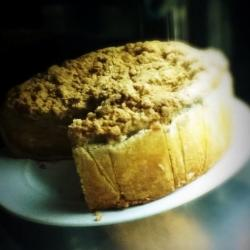bread: (5, 38, 247, 210)
